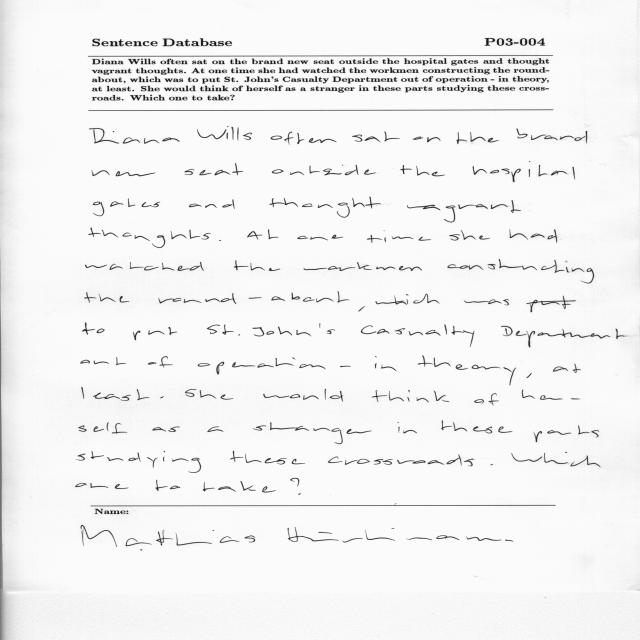word: (448, 260, 595, 284), (418, 356, 516, 386), (76, 451, 201, 473), (361, 324, 475, 347), (253, 422, 372, 444), (501, 326, 625, 347), (407, 201, 521, 223), (89, 228, 211, 248), (269, 197, 381, 218), (158, 292, 350, 304), (198, 358, 326, 375), (473, 161, 575, 182), (464, 296, 576, 313), (328, 455, 473, 467), (90, 128, 180, 144), (512, 452, 601, 467), (94, 199, 161, 217), (252, 324, 335, 337), (85, 262, 204, 271), (517, 129, 588, 144), (304, 262, 422, 271), (230, 451, 305, 465), (272, 165, 376, 175), (534, 426, 599, 442), (372, 390, 449, 403), (263, 389, 343, 401), (82, 387, 149, 401), (203, 481, 276, 493), (270, 132, 337, 145), (441, 421, 513, 433), (197, 126, 252, 141), (367, 231, 431, 243), (185, 163, 244, 176), (376, 294, 440, 305), (509, 229, 557, 243), (522, 389, 580, 400), (79, 422, 127, 434), (133, 327, 177, 340), (352, 132, 400, 143), (185, 389, 233, 400), (456, 132, 499, 144), (234, 260, 280, 271), (400, 165, 445, 176), (85, 292, 129, 303), (189, 199, 235, 209), (449, 230, 490, 241), (92, 171, 155, 177), (207, 325, 240, 336), (81, 357, 126, 365), (474, 393, 499, 406), (247, 230, 279, 240), (76, 483, 129, 489), (375, 356, 396, 371), (148, 356, 173, 368), (298, 235, 344, 241), (82, 323, 105, 335), (156, 480, 181, 491), (553, 364, 581, 373), (397, 422, 417, 434), (413, 137, 441, 142), (152, 427, 180, 432), (208, 426, 224, 432), (290, 478, 299, 487), (358, 306, 365, 312), (527, 373, 532, 378), (340, 366, 351, 368), (160, 397, 164, 399), (219, 240, 221, 241), (491, 464, 493, 465)
